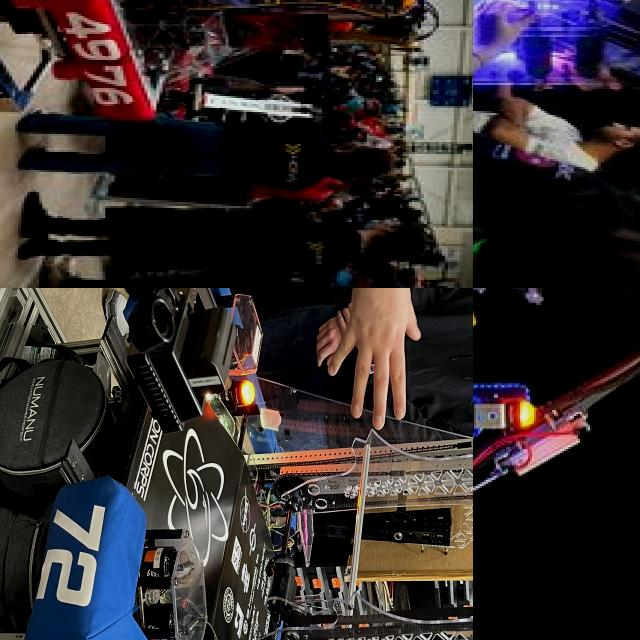FRC-Robots: (29, 288, 473, 640), (0, 0, 433, 167), (473, 288, 640, 640), (473, 0, 640, 288)
